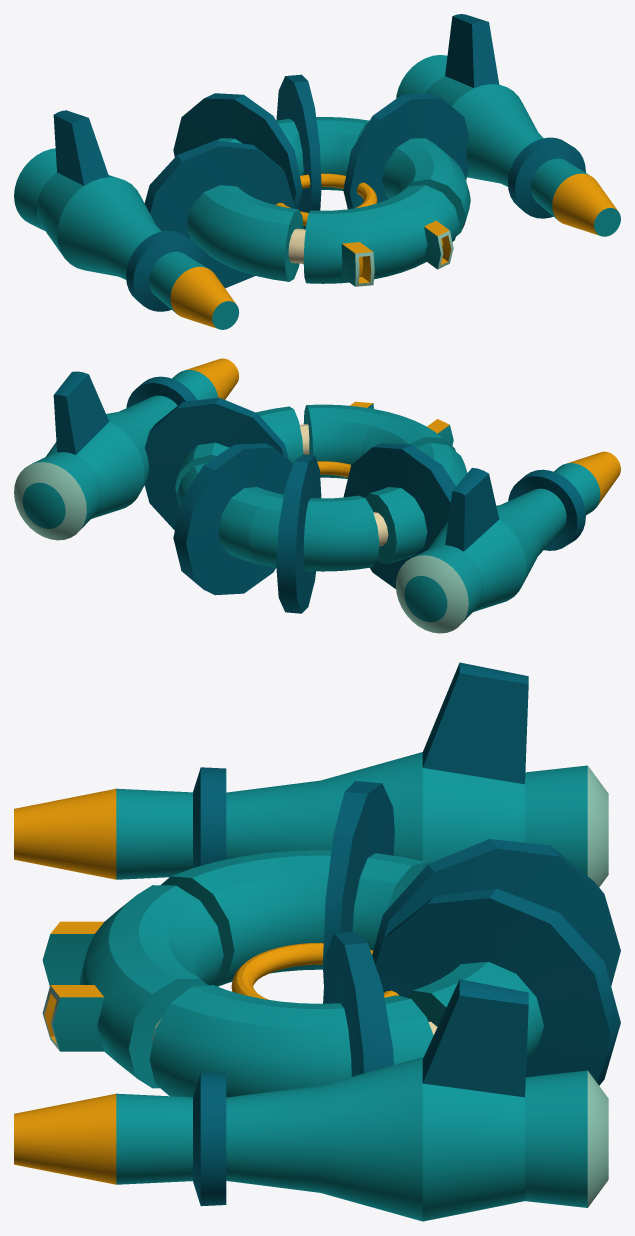
Rendered from Enemy_Big_2.fbx.
3 renders of one model, top to bottom at view 1: azimuth 30°, elevation 25°; view 2: azimuth 150°, elevation 25°; view 3: azimuth 270°, elevation 25°, orthographic. The views are drawn at different scales.
Visible parts, largest first — view 1: ship 2; view 2: ship 2; view 3: ship 2.
Part boxes in pixels (<box>): ship 2: <box>14,14,620,329</box>; ship 2: <box>14,358,620,633</box>; ship 2: <box>14,662,620,1221</box>.
Bounding box in the file's own units: 487 × 170 × 334.
